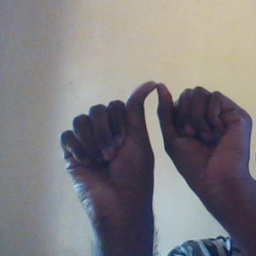A: (57, 78, 255, 212)
